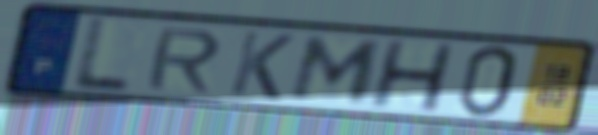0: (454, 43, 523, 120)
H: (365, 38, 459, 115)
K: (225, 28, 298, 103)
L: (69, 16, 134, 95)
M: (285, 33, 388, 105)
R: (141, 26, 225, 95)
